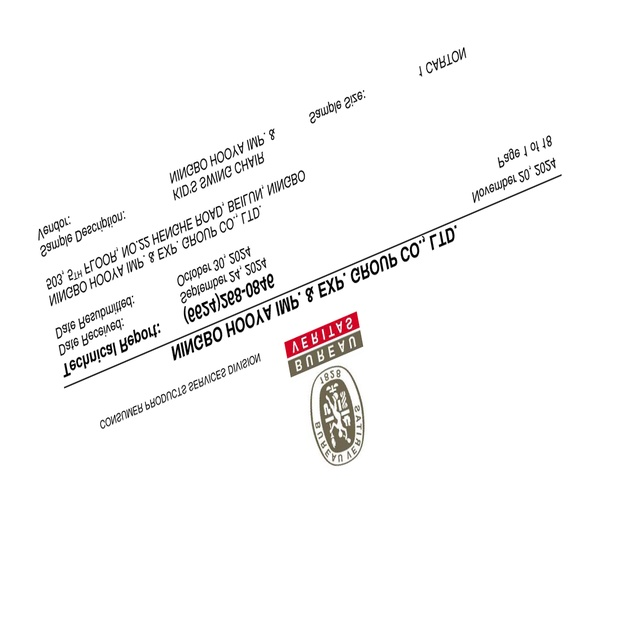bureau_veritas: (283, 309, 364, 466)
